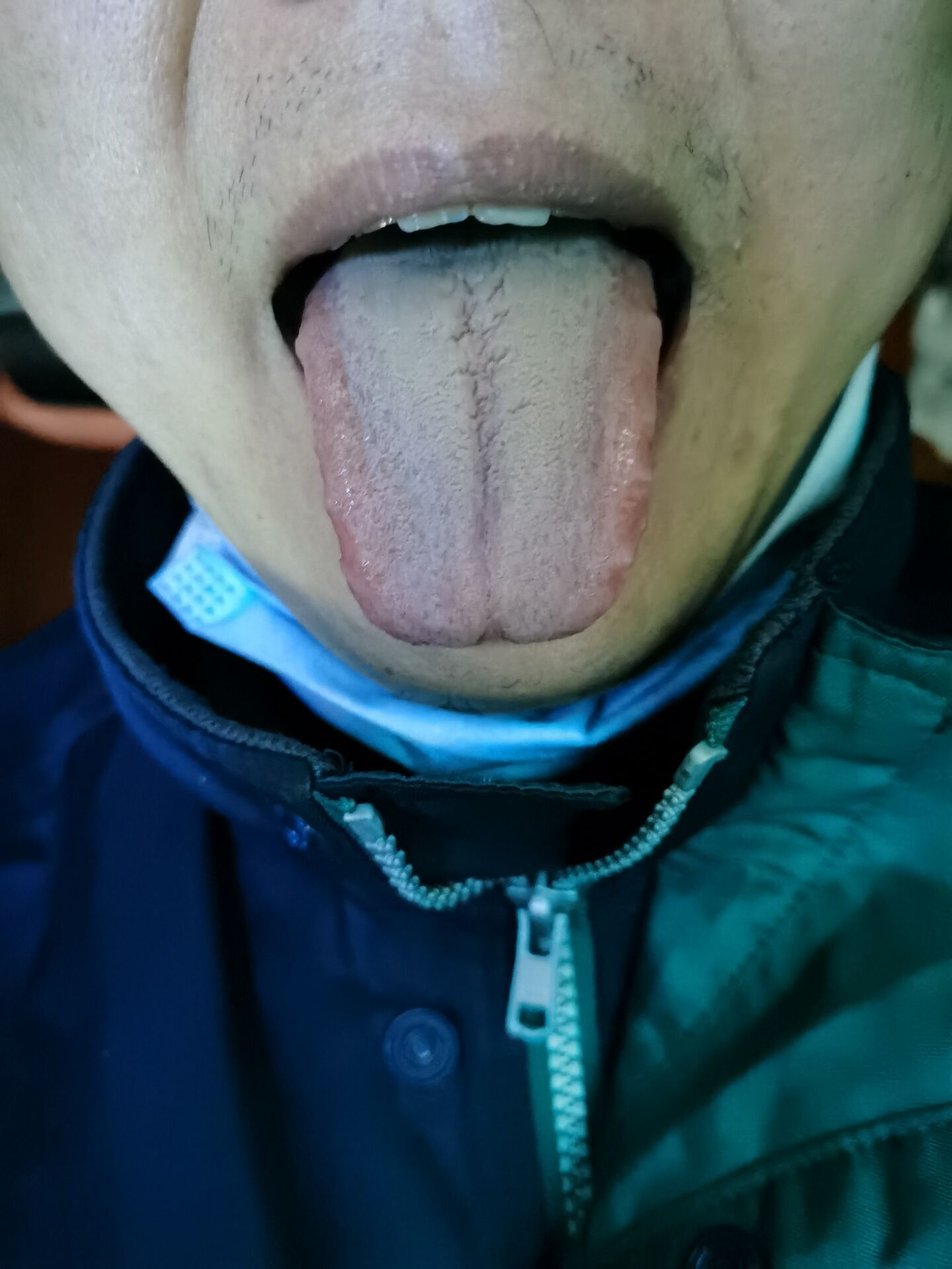baitaishe: (294, 237, 662, 648)
chihenshe: (294, 350, 362, 601)
liewenshe: (452, 276, 508, 541)
